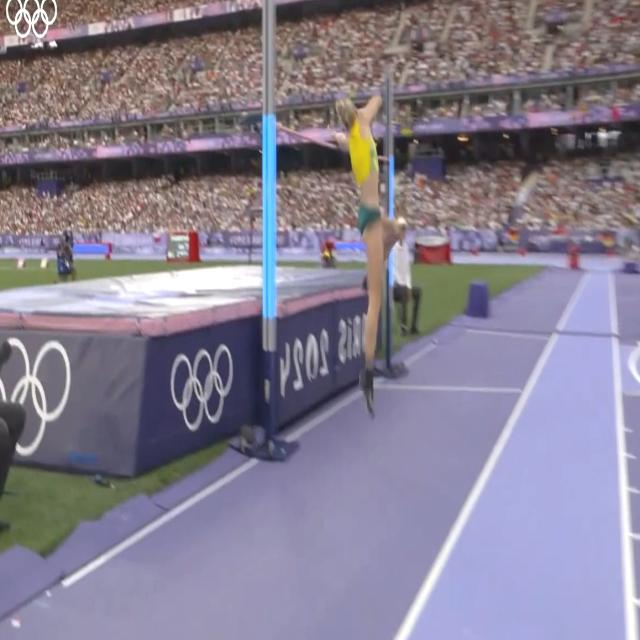jump: (333, 99, 398, 418)
